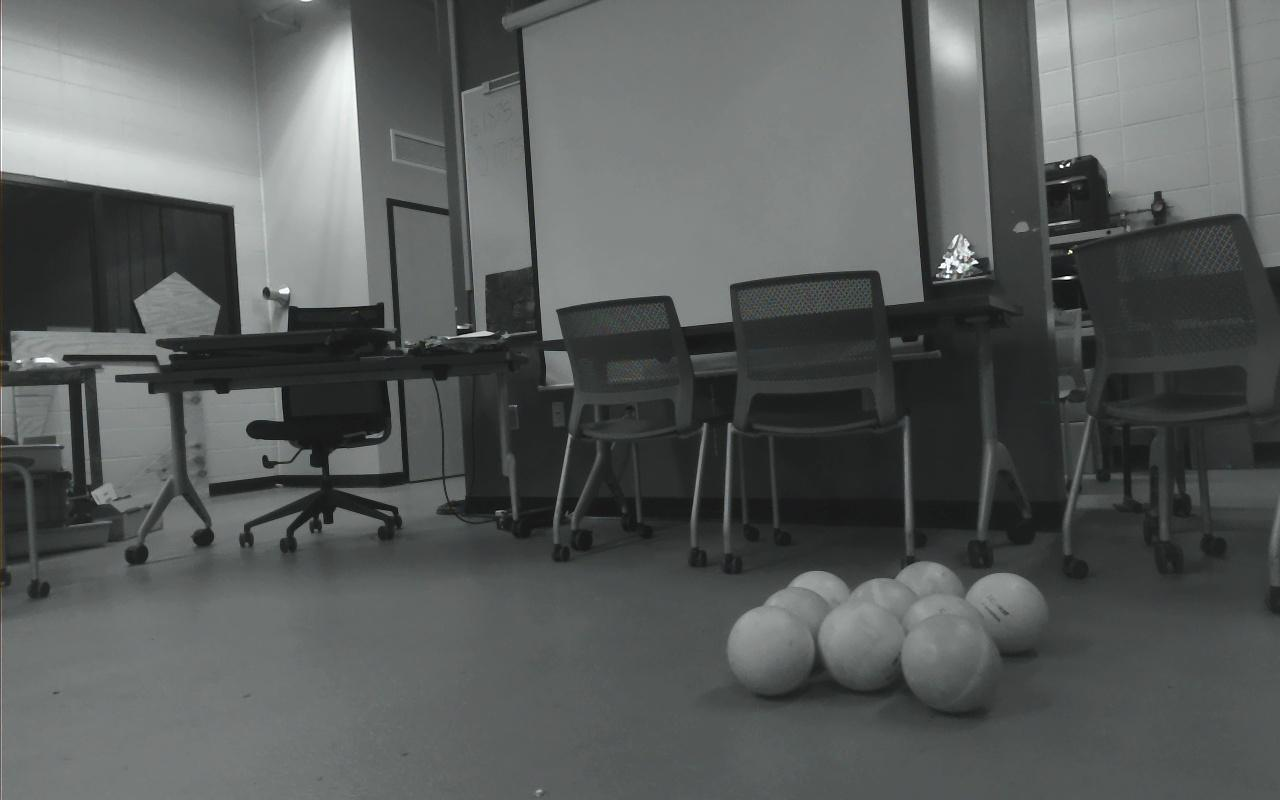Fuel: (901, 612, 1001, 714), (817, 600, 908, 691), (726, 606, 815, 698), (965, 571, 1051, 654), (760, 585, 836, 671), (901, 593, 989, 667), (845, 577, 922, 658), (892, 559, 968, 637), (786, 570, 854, 646)
